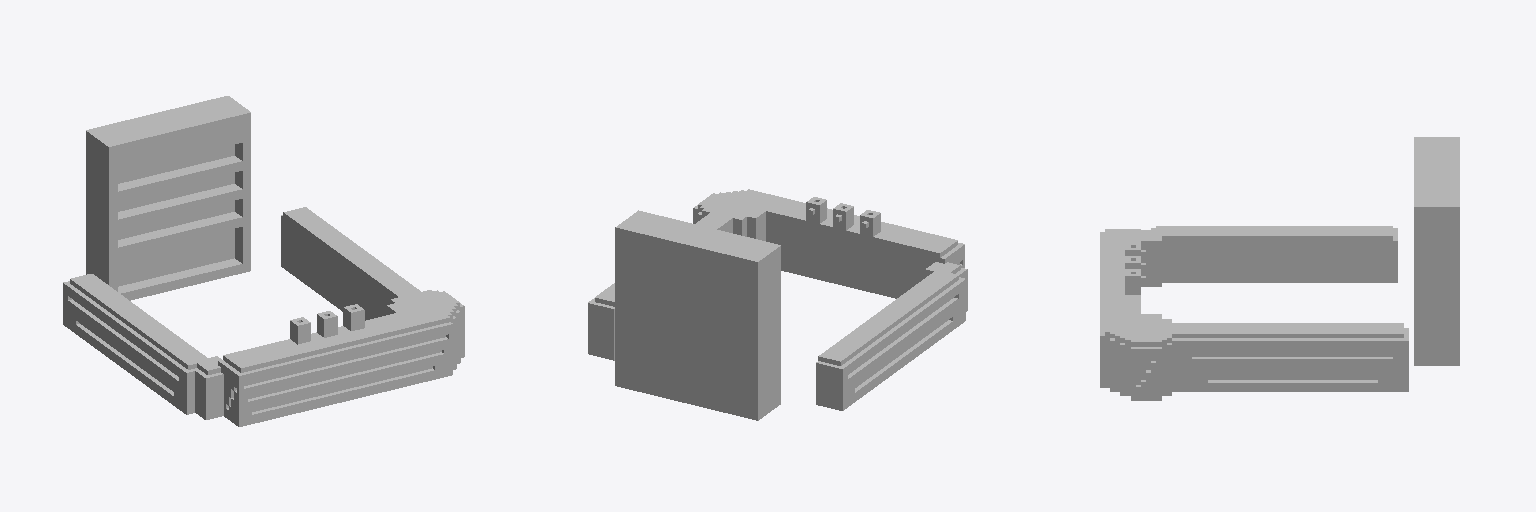
Rendered from stoika.obj.
3 renders of one model, left to right at view 1: azimuth 30°, elevation 25°; view 2: azimuth 150°, elevation 25°; view 3: azimuth 270°, elevation 25°, orthographic.
Bounding box in the file's own units: 60 × 34 × 70.